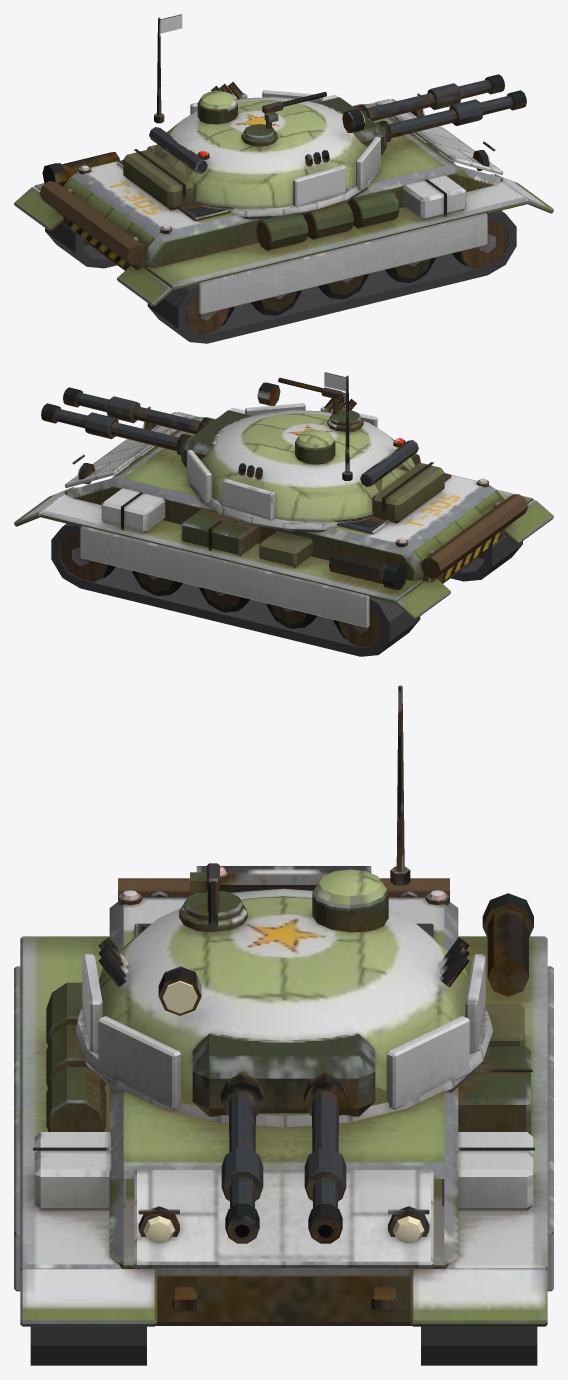
File: 3tnk.soviet.glb
3 views of the same model, one above another, from view 1: azimuth 30°, elevation 25°; view 2: azimuth 150°, elevation 25°; view 3: azimuth 270°, elevation 25° (orthographic). The views are drawn at different scales.
Visible parts, largest first — view 1: root_mesh, turret_mesh, b1_mesh, b0_mesh; view 2: root_mesh, turret_mesh, b0_mesh, b1_mesh; view 3: root_mesh, turret_mesh, b0_mesh, b1_mesh.
Boxes of the visible parts, x1,y1,x2,y2 form: root_mesh: [14, 93, 553, 343]; turret_mesh: [123, 14, 391, 219]; b1_mesh: [389, 90, 526, 137]; b0_mesh: [367, 74, 504, 121]; root_mesh: [14, 406, 553, 656]; turret_mesh: [176, 372, 444, 532]; b0_mesh: [41, 403, 178, 450]; b1_mesh: [63, 387, 200, 434]; root_mesh: [14, 878, 553, 1365]; turret_mesh: [74, 685, 493, 1127]; b0_mesh: [304, 1091, 346, 1243]; b1_mesh: [221, 1091, 263, 1243].
Bounding box in the file's own units: 1.14 × 0.611 × 0.65.
Materials: 2 (1 with a texture image).
